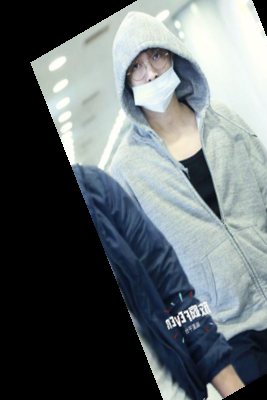mask_weared_incorrect: (100, 5, 201, 113)
